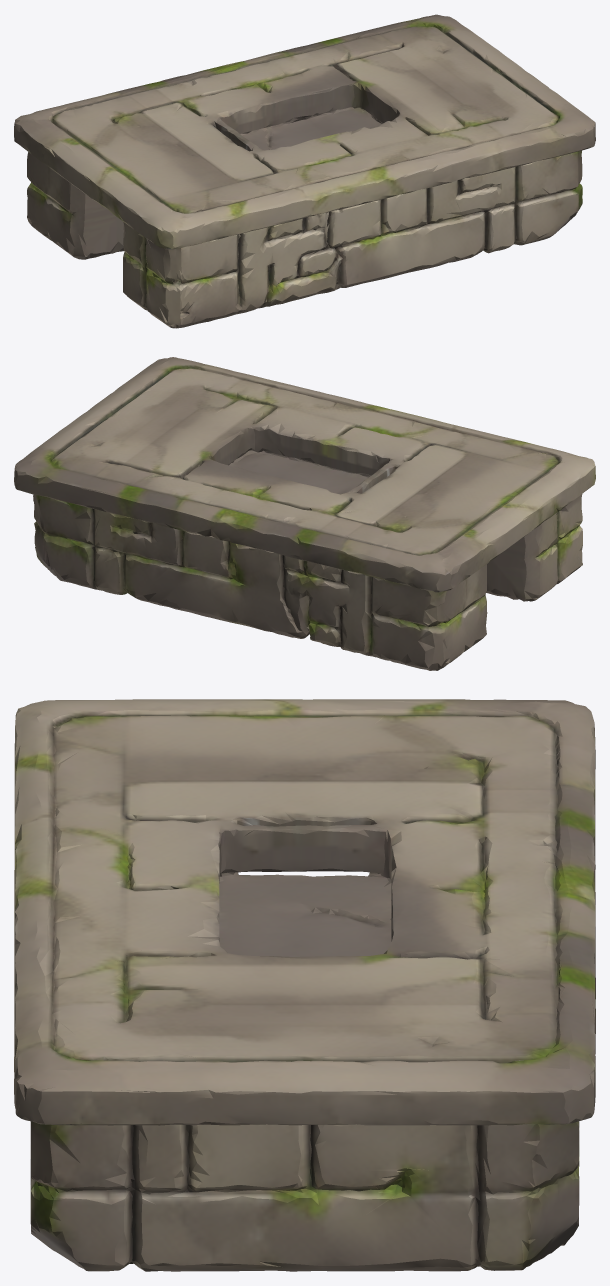
The model's file is rodin_Lab_WallStraight_raw.glb.
3 views of the same model, one above another, from view 1: azimuth 30°, elevation 25°; view 2: azimuth 150°, elevation 25°; view 3: azimuth 270°, elevation 25° (orthographic). The views are drawn at different scales.
Visible parts, largest first — view 1: model; view 2: model; view 3: model.
Part boxes in pixels (<box>): model: <box>14,14,595,328</box>; model: <box>14,357,595,670</box>; model: <box>14,699,595,1271</box>.
Bounding box in the file's own units: 1.89 × 0.4659 × 1.18.
1 material, 1 textured.
